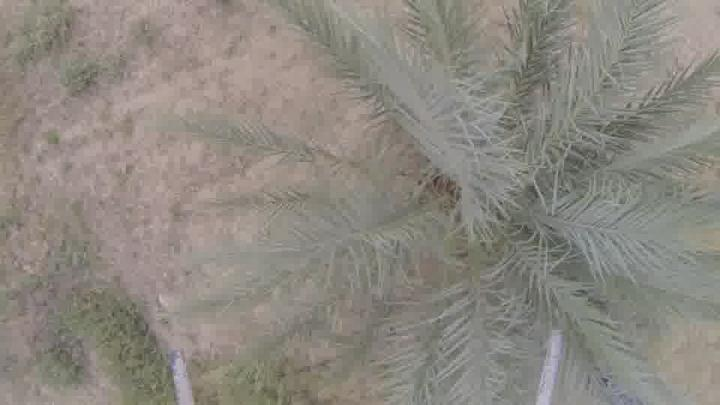Date-Palm-Crown: (304, 64, 692, 362)
